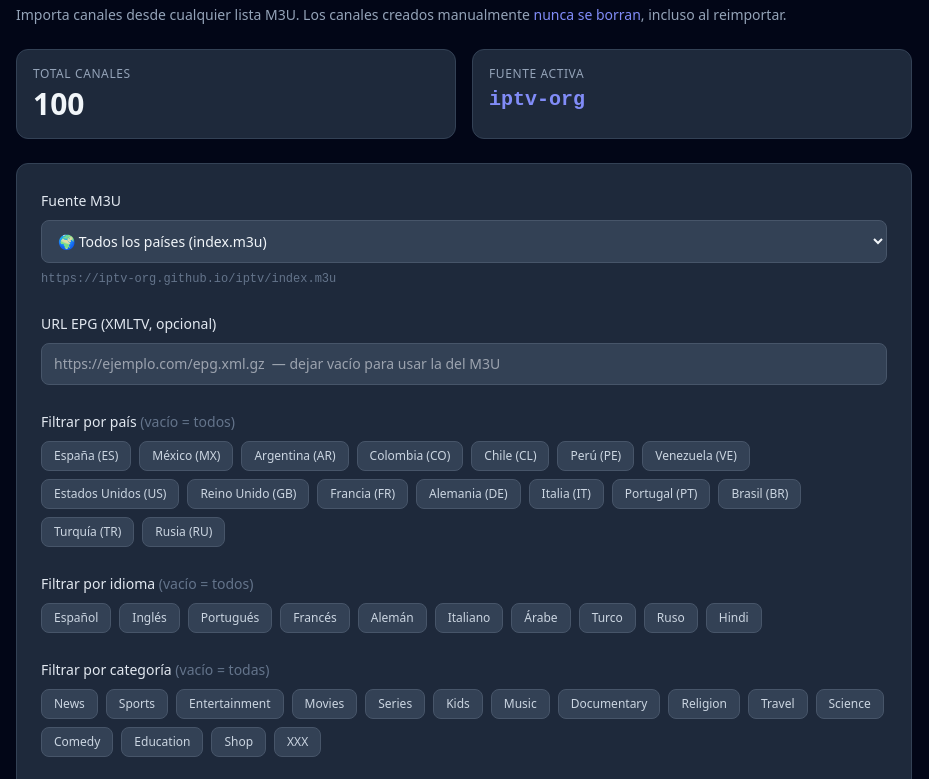
IPTVPage › toggles country filter when clicking a country button
This screenshot has width=929, height=779.
What coordinates should you click on to do the following:
click the button "España (ES)"
I would click on:
 (86, 456)
Its box is [41, 441, 131, 471].
(page scrolled)
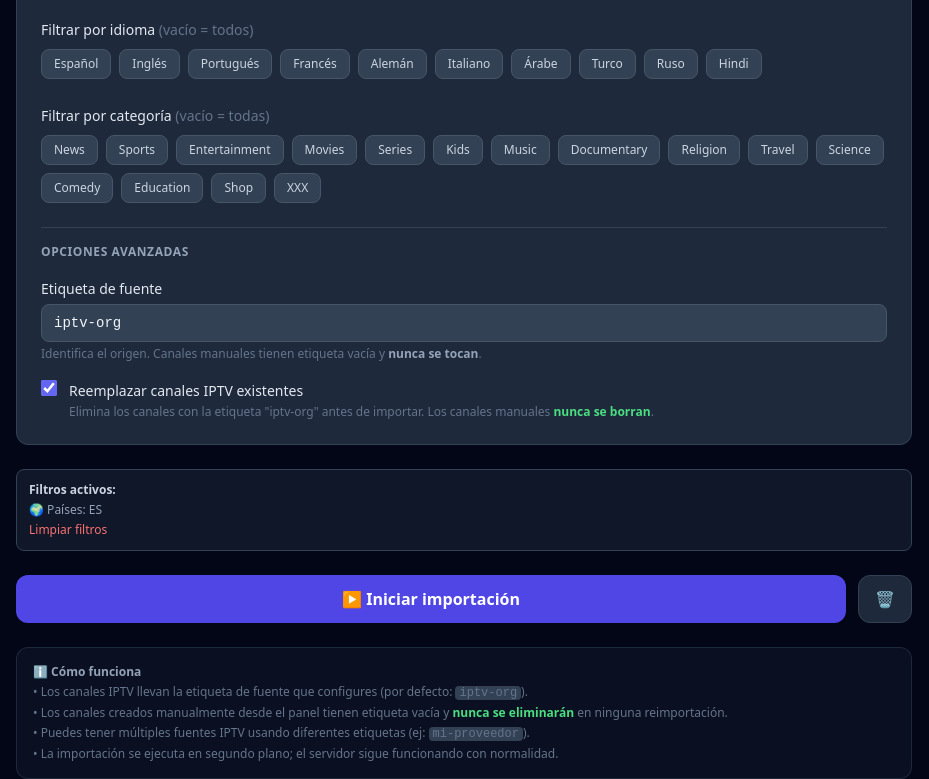
Result: the text "Filtros activos:" is shown at [29, 481, 116, 498]
Result: the text "🌍 Países: ES" is shown at [29, 501, 102, 518]
